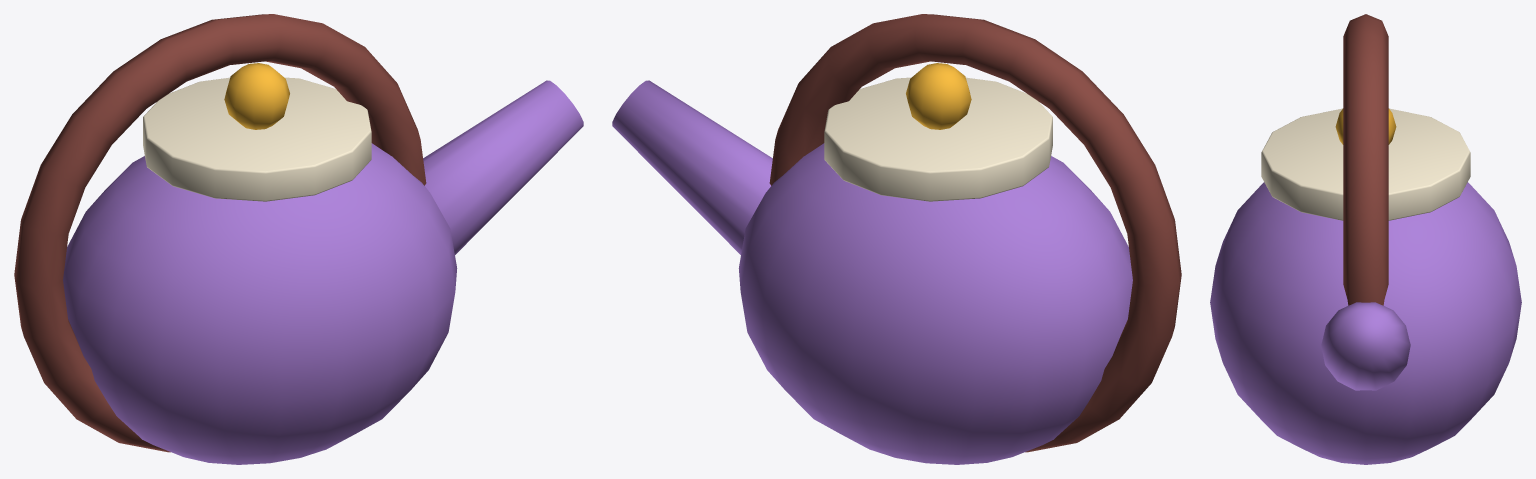
File: r038_castle_kitchen_teapot_teapot.glb
The picture shows the model from 3 angles, left to right: view 1: azimuth 30°, elevation 25°; view 2: azimuth 150°, elevation 25°; view 3: azimuth 270°, elevation 25°; orthographic projection. The views are drawn at different scales.
Parts seen in each view (by area): view 1: r038_castle_kitchen_teapot_teapot.001; view 2: r038_castle_kitchen_teapot_teapot.001; view 3: r038_castle_kitchen_teapot_teapot.001.
Part boxes in pixels (<box>): r038_castle_kitchen_teapot_teapot.001: <box>14,14,583,464</box>; r038_castle_kitchen_teapot_teapot.001: <box>612,14,1181,464</box>; r038_castle_kitchen_teapot_teapot.001: <box>1210,14,1521,464</box>.
Bounding box in the file's own units: 3.07 × 2.29 × 1.64.
